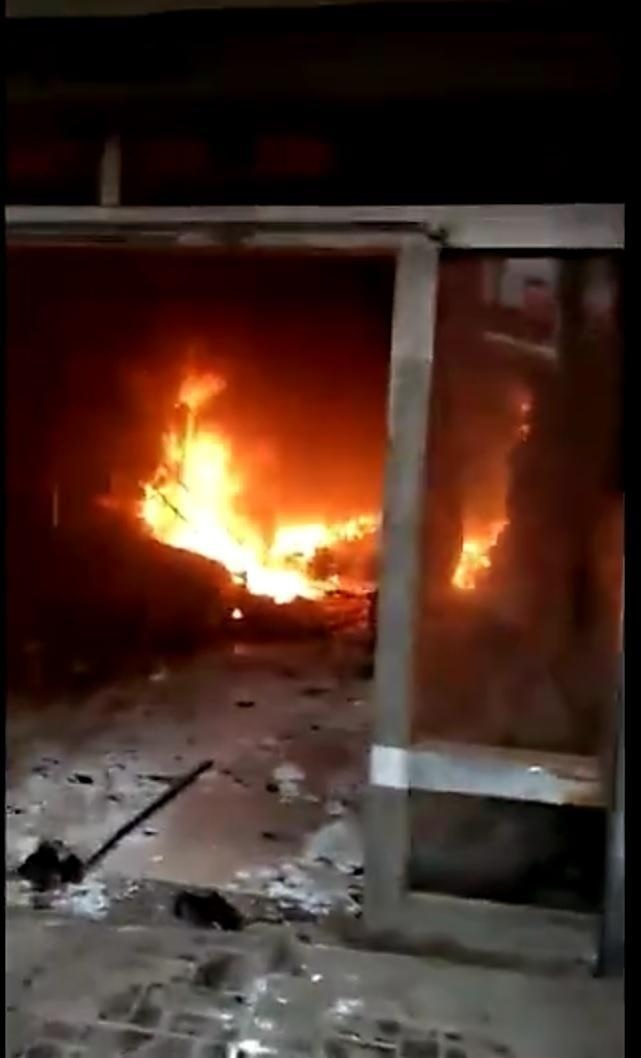fire: (129, 366, 379, 606), (456, 388, 539, 590), (448, 520, 499, 590)
